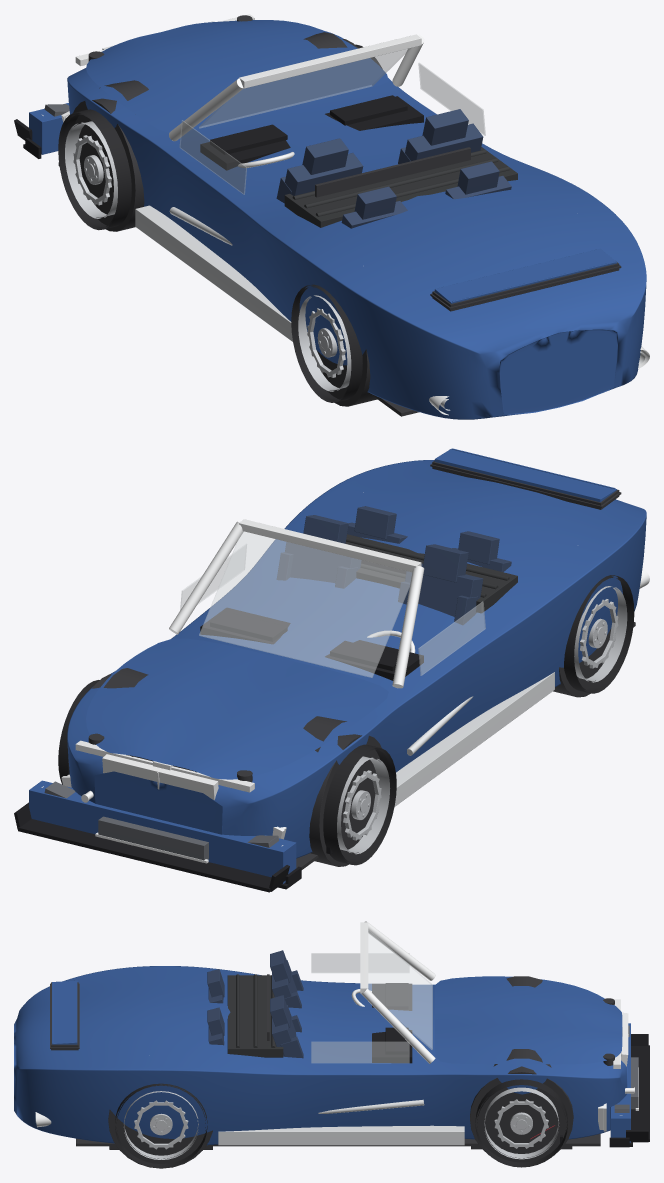
File: Car_Bentley_Continental_GT_Speed_Phase1.glb
3 views of the same model, one above another, from view 1: azimuth 30°, elevation 25°; view 2: azimuth 150°, elevation 25°; view 3: azimuth 270°, elevation 25° (orthographic). The views are drawn at different scales.
Parts seen in each view (by area): view 1: GEO_BENTLEY_Monocoque_Body_Shell, GEO_BENTLEY_Bonnet_Sculpture, GEO_BENTLEY_Windshield_Acoustic_Glass, GEO_BENTLEY_GrandTourer_Leather_Seats, GEO_BENTLEY_Reinforced_Aluminum_Side_Sills, GEO_BENTLEY_Pirelli_PZero_Tires, GEO_BENTLEY_FlyingWing_Dashboard_Fascia, GEO_BENTLEY_Folded_Tweed_SoftTop_Tonneau, GEO_BENTLEY_Wheelhouse_Inner_Tubs, GEO_BENTLEY_22in_Speed_Barrels, GEO_BENTLEY_Windshield_Header_Frame, GEO_BENTLEY_Active_Deployable_Spoiler_Blade (+5 smaller); view 2: GEO_BENTLEY_Monocoque_Body_Shell, GEO_BENTLEY_Bonnet_Sculpture, GEO_BENTLEY_Windshield_Acoustic_Glass, GEO_BENTLEY_GrandTourer_Leather_Seats, GEO_BENTLEY_Front_Bumper_Valance, GEO_BENTLEY_Pirelli_PZero_Tires, GEO_BENTLEY_Windshield_Header_Frame, GEO_BENTLEY_Reinforced_Aluminum_Side_Sills, GEO_BENTLEY_Front_Aero_Splitter_Winglets, GEO_BENTLEY_FlyingWing_Dashboard_Fascia, GEO_BENTLEY_Wheelhouse_Inner_Tubs, GEO_BENTLEY_22in_Speed_Barrels (+8 smaller); view 3: GEO_BENTLEY_Monocoque_Body_Shell, GEO_BENTLEY_Bonnet_Sculpture, GEO_BENTLEY_Windshield_Acoustic_Glass, GEO_BENTLEY_Wheelhouse_Inner_Tubs, GEO_BENTLEY_Reinforced_Aluminum_Side_Sills, GEO_BENTLEY_GrandTourer_Leather_Seats, GEO_BENTLEY_Folded_Tweed_SoftTop_Tonneau, GEO_BENTLEY_22in_Speed_Barrels, GEO_BENTLEY_Windshield_Header_Frame, GEO_BENTLEY_FlyingWing_Dashboard_Fascia, GEO_BENTLEY_Pirelli_PZero_Tires, GEO_BENTLEY_Front_Aero_Splitter_Winglets (+7 smaller).
Boxes of the visible parts, left/top/right/bottom form: GEO_BENTLEY_Monocoque_Body_Shell: left=67, top=31, right=646, bottom=419; GEO_BENTLEY_Bonnet_Sculpture: left=86, top=20, right=388, bottom=132; GEO_BENTLEY_Windshield_Acoustic_Glass: left=179, top=48, right=485, bottom=194; GEO_BENTLEY_GrandTourer_Leather_Seats: left=276, top=109, right=511, bottom=228; GEO_BENTLEY_Reinforced_Aluminum_Side_Sills: left=135, top=205, right=292, bottom=341; GEO_BENTLEY_Pirelli_PZero_Tires: left=58, top=44, right=382, bottom=402; GEO_BENTLEY_FlyingWing_Dashboard_Fascia: left=200, top=95, right=423, bottom=170; GEO_BENTLEY_Folded_Tweed_SoftTop_Tonneau: left=284, top=147, right=517, bottom=227; GEO_BENTLEY_Wheelhouse_Inner_Tubs: left=73, top=39, right=377, bottom=406; GEO_BENTLEY_22in_Speed_Barrels: left=65, top=121, right=351, bottom=391; GEO_BENTLEY_Windshield_Header_Frame: left=169, top=34, right=424, bottom=141; GEO_BENTLEY_Active_Deployable_Spoiler_Blade: left=434, top=248, right=616, bottom=303; GEO_BENTLEY_Monocoque_Body_Shell: left=67, top=460, right=646, bottom=858; GEO_BENTLEY_Bonnet_Sculpture: left=86, top=638, right=388, bottom=779; GEO_BENTLEY_Windshield_Acoustic_Glass: left=180, top=531, right=485, bottom=677; GEO_BENTLEY_GrandTourer_Leather_Seats: left=276, top=506, right=511, bottom=625; GEO_BENTLEY_Front_Bumper_Valance: left=29, top=780, right=296, bottom=883; GEO_BENTLEY_Pirelli_PZero_Tires: left=58, top=575, right=634, bottom=865; GEO_BENTLEY_Windshield_Header_Frame: left=169, top=519, right=424, bottom=688; GEO_BENTLEY_Reinforced_Aluminum_Side_Sills: left=394, top=672, right=554, bottom=806; GEO_BENTLEY_Front_Aero_Splitter_Winglets: left=14, top=802, right=332, bottom=892; GEO_BENTLEY_FlyingWing_Dashboard_Fascia: left=200, top=607, right=423, bottom=680; GEO_BENTLEY_Wheelhouse_Inner_Tubs: left=68, top=628, right=611, bottom=866; GEO_BENTLEY_22in_Speed_Barrels: left=337, top=586, right=627, bottom=854; GEO_BENTLEY_Monocoque_Body_Shell: left=14, top=966, right=627, bottom=1145; GEO_BENTLEY_Bonnet_Sculpture: left=435, top=976, right=622, bottom=1064; GEO_BENTLEY_Windshield_Acoustic_Glass: left=311, top=930, right=432, bottom=1063; GEO_BENTLEY_Wheelhouse_Inner_Tubs: left=108, top=1066, right=573, bottom=1168; GEO_BENTLEY_Reinforced_Aluminum_Side_Sills: left=218, top=1099, right=464, bottom=1145; GEO_BENTLEY_GrandTourer_Leather_Seats: left=207, top=950, right=303, bottom=1058; GEO_BENTLEY_Folded_Tweed_SoftTop_Tonneau: left=227, top=974, right=283, bottom=1057; GEO_BENTLEY_22in_Speed_Barrels: left=123, top=1087, right=559, bottom=1159; GEO_BENTLEY_Windshield_Header_Frame: left=360, top=921, right=435, bottom=1063; GEO_BENTLEY_FlyingWing_Dashboard_Fascia: left=372, top=983, right=412, bottom=1063; GEO_BENTLEY_Pirelli_PZero_Tires: left=115, top=1079, right=567, bottom=1168; GEO_BENTLEY_Front_Aero_Splitter_Winglets: left=560, top=1034, right=649, bottom=1145.
Size of what is drawn, in the model's own units: 1.98 by 1.44 by 5.03.
